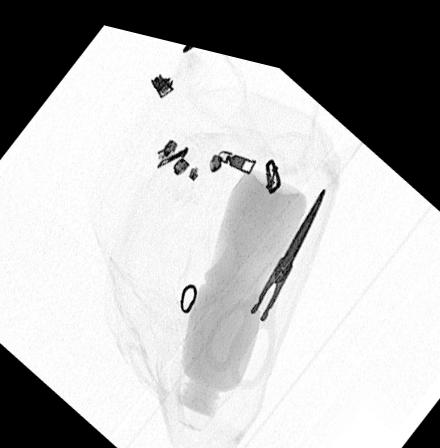Scissors: (203, 169, 328, 377)
